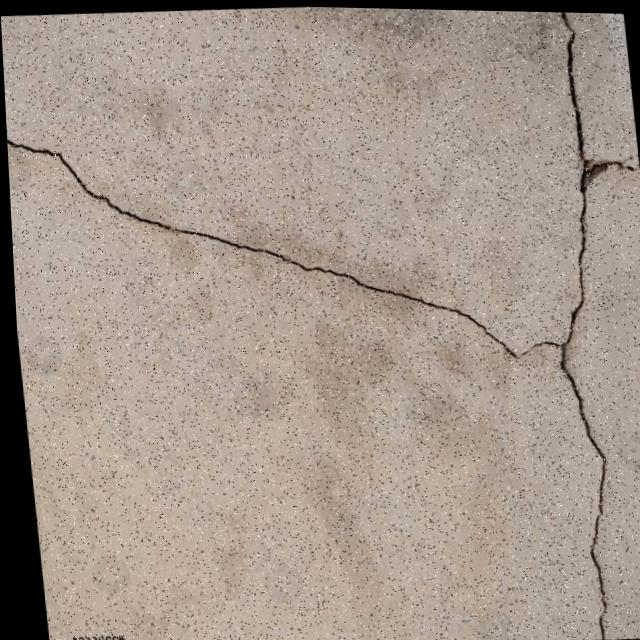Crack: (4, 102, 558, 393), (522, 9, 640, 639)
